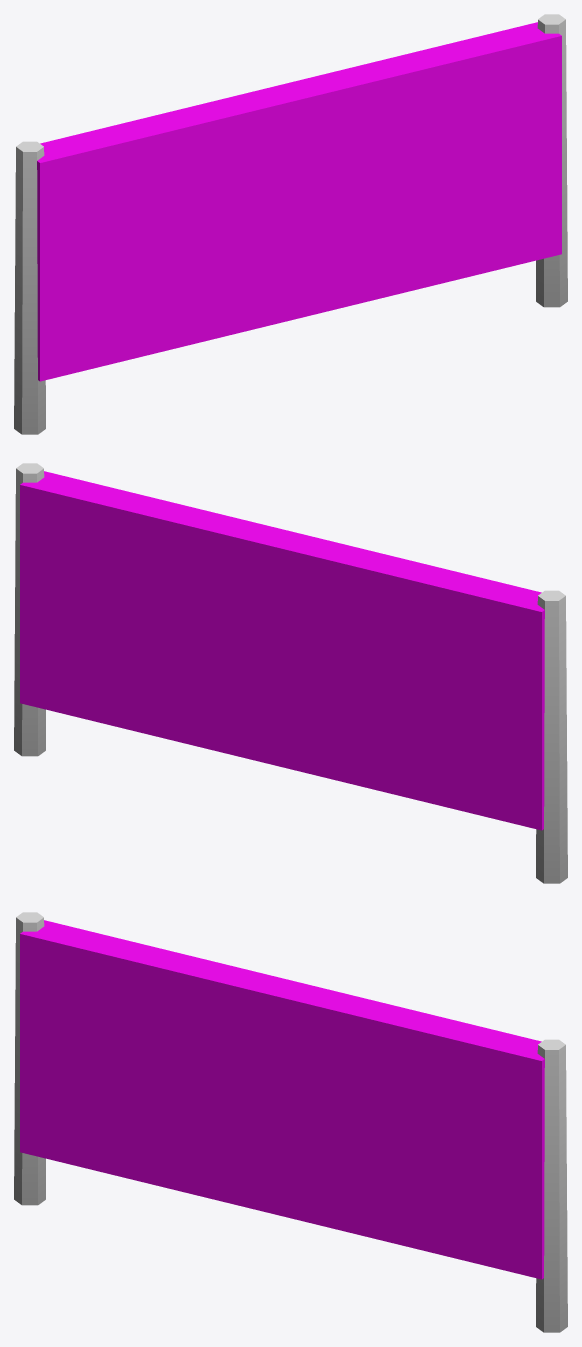
File: fence.glb
The picture shows the model from 3 angles, top to bottom: view 1: azimuth 30°, elevation 25°; view 2: azimuth 150°, elevation 25°; view 3: azimuth 330°, elevation 25°; orthographic projection.
Visible parts, largest first — view 1: fence_hull, fence; view 2: fence_hull, fence; view 3: fence_hull, fence.
Part boxes in pixels (<box>): fence_hull: <box>37,22,561,381</box>; fence: <box>14,14,567,434</box>; fence_hull: <box>20,471,544,830</box>; fence: <box>14,463,567,883</box>; fence_hull: <box>20,920,544,1279</box>; fence: <box>14,912,567,1332</box>.
Bounding box in the file's own units: 3.14 × 1.55 × 0.2.
